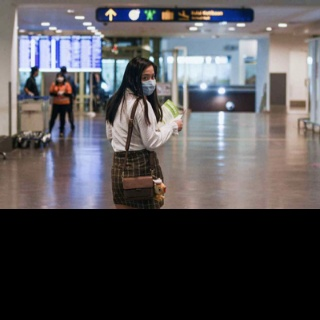with_mask: (140, 71, 156, 96), (56, 74, 64, 83)
